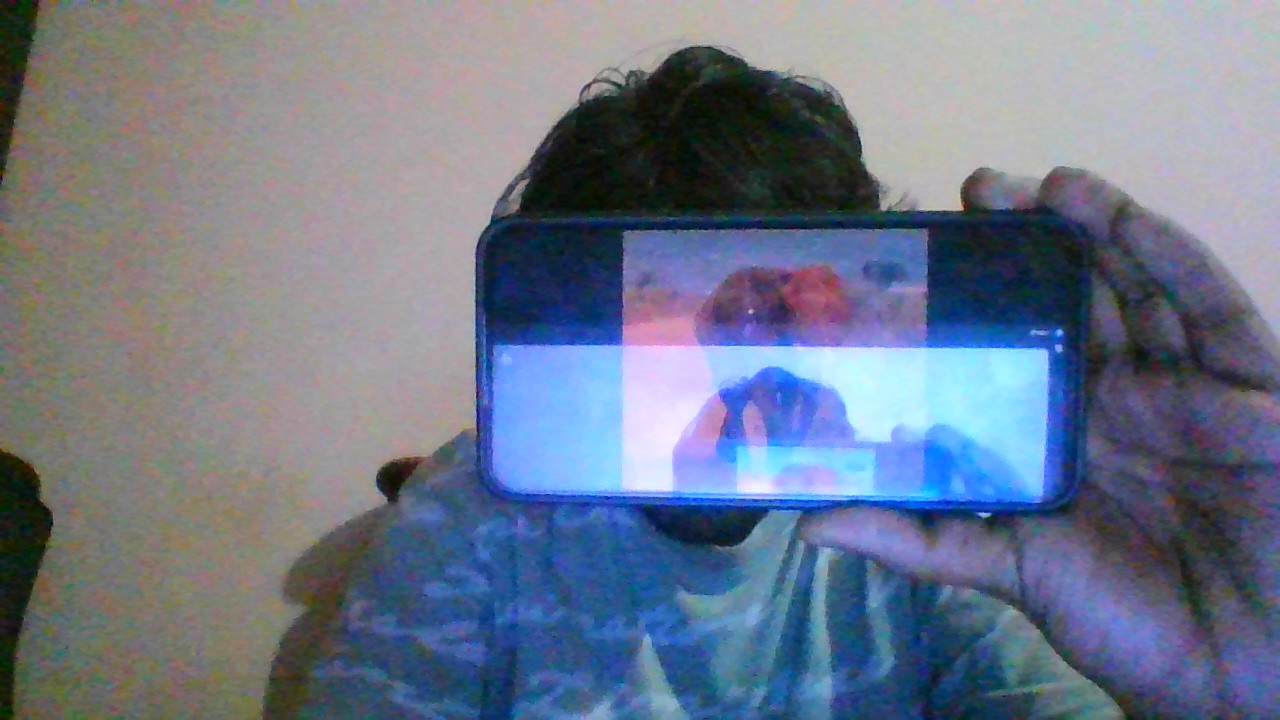elephant: (650, 259, 901, 484), (682, 262, 900, 484)
